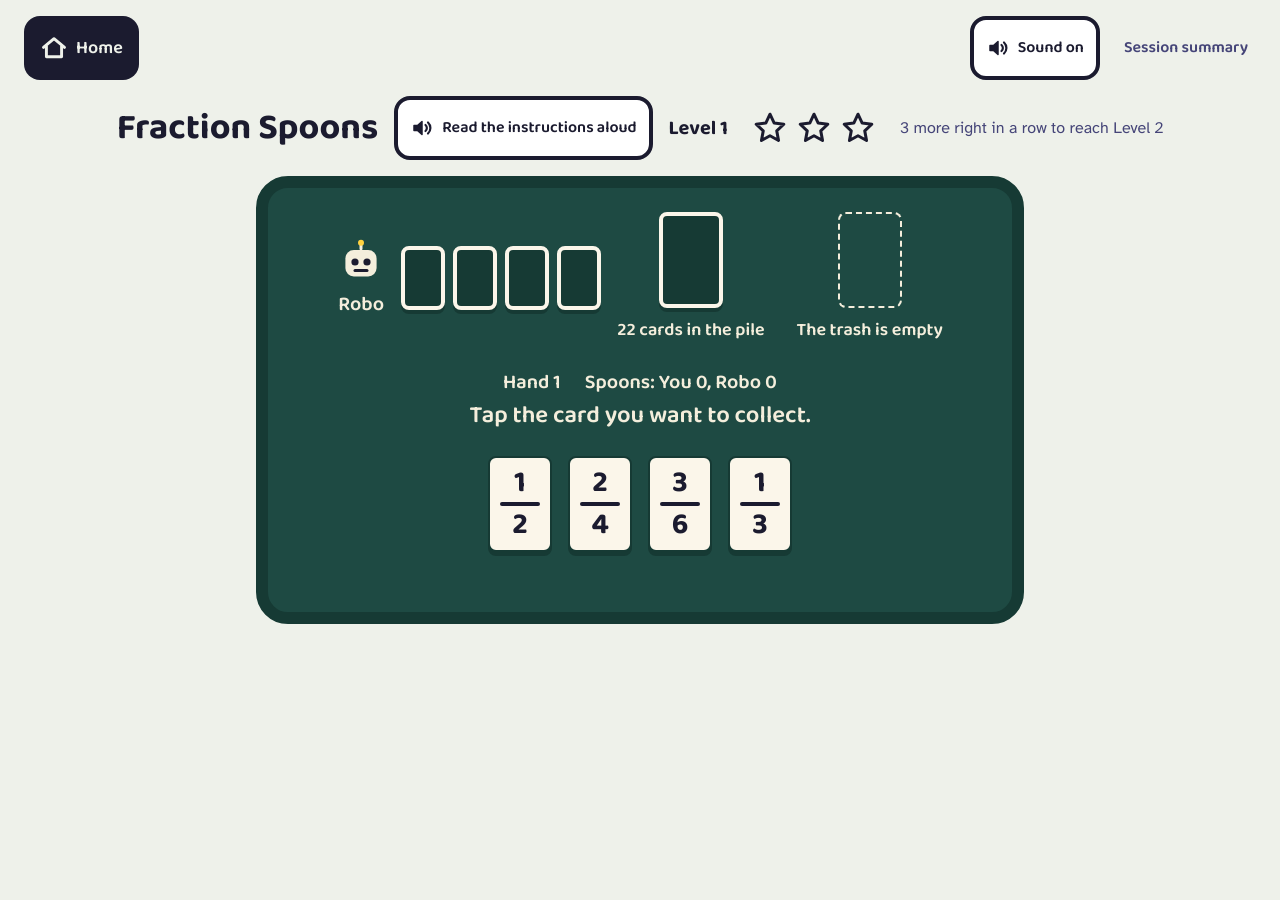
Test: tapping a card collects it, marks it and offers the draw
Click the button named "3/6": (680, 504) [648,456,712,552]
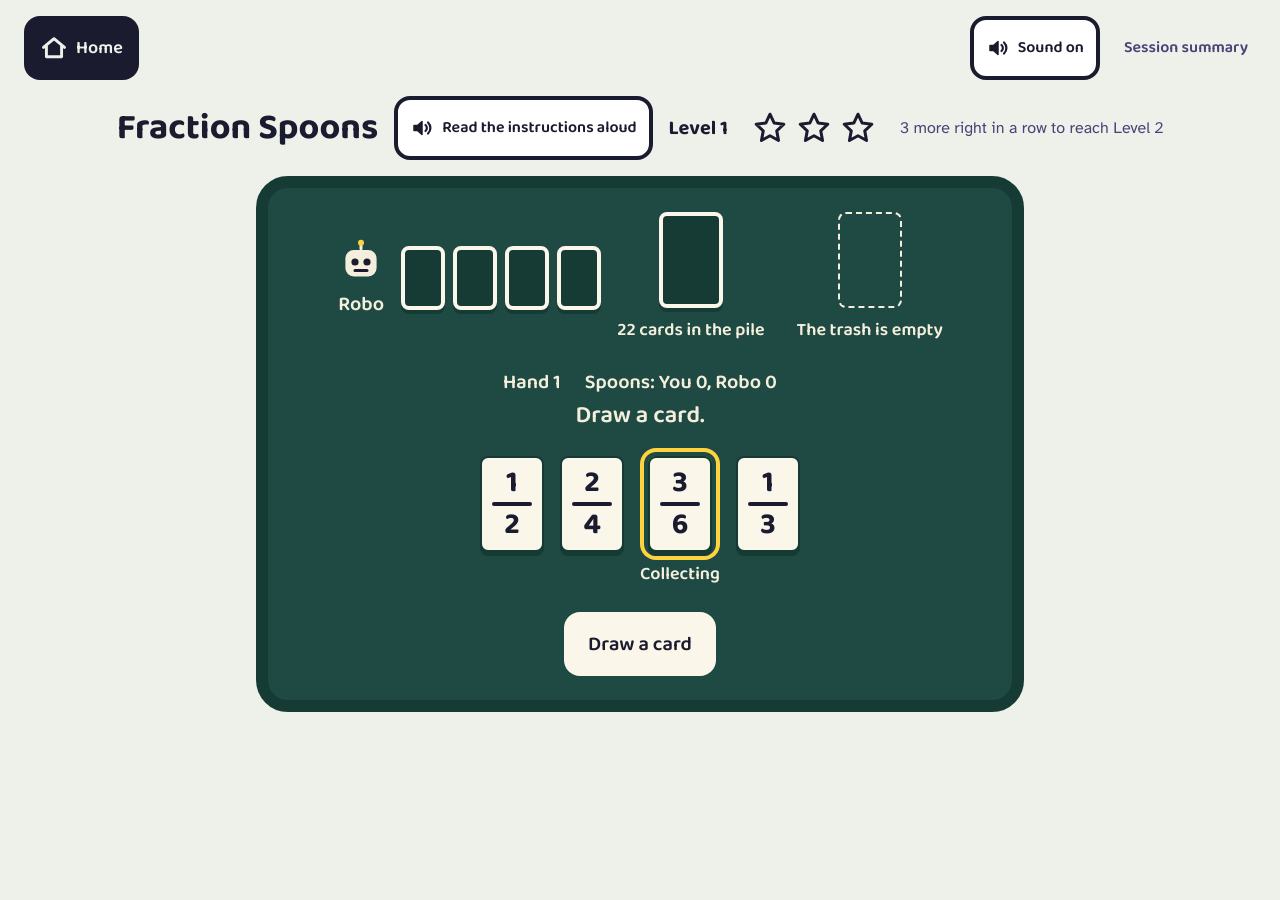
Now the text "Collecting" is shown, box [640,560,720,588]
Now the text "Draw a card." is shown, box [575,400,705,432]
Now the button "Draw a card" is shown, box [564,612,716,676]
